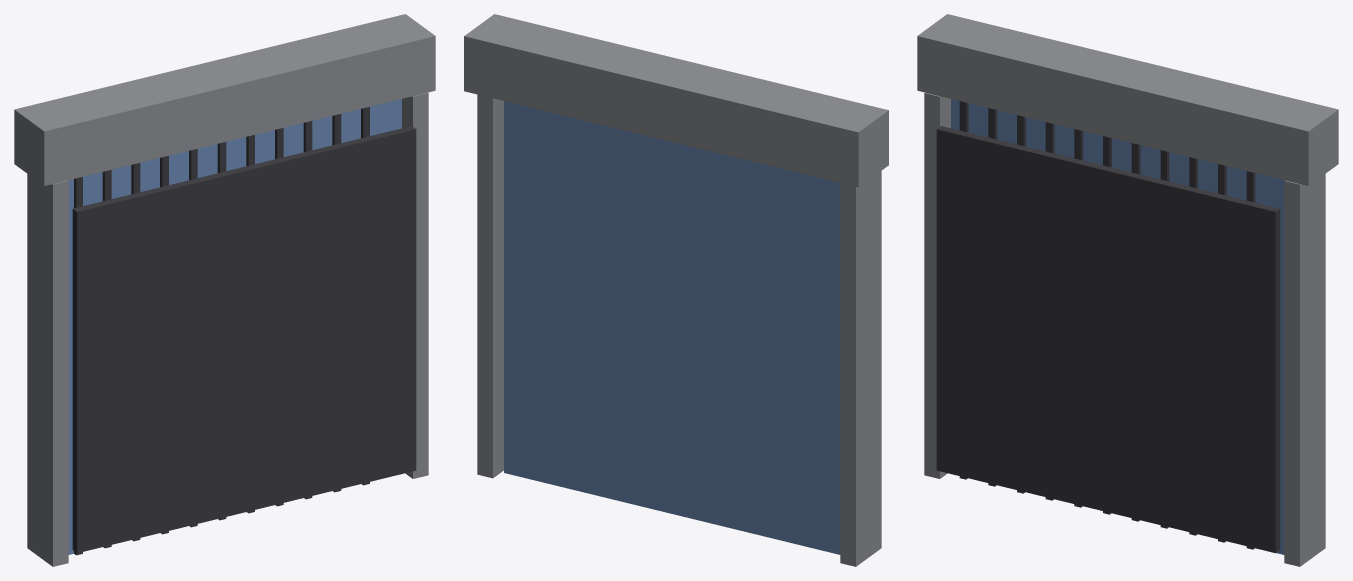
Rendered from prop_shutter_blue.glb.
The picture shows the model from 3 angles, left to right: view 1: azimuth 30°, elevation 25°; view 2: azimuth 150°, elevation 25°; view 3: azimuth 330°, elevation 25°; orthographic projection.
Parts seen in each view (by area): view 1: shutter_blue; view 2: shutter_blue; view 3: shutter_blue.
Part boxes in pixels (x1,y1,x2,y2): shutter_blue: (14,14,435,566); shutter_blue: (464,14,888,566); shutter_blue: (917,14,1338,566).
Bounding box in the file's own units: 3 × 3.2 × 0.49.
